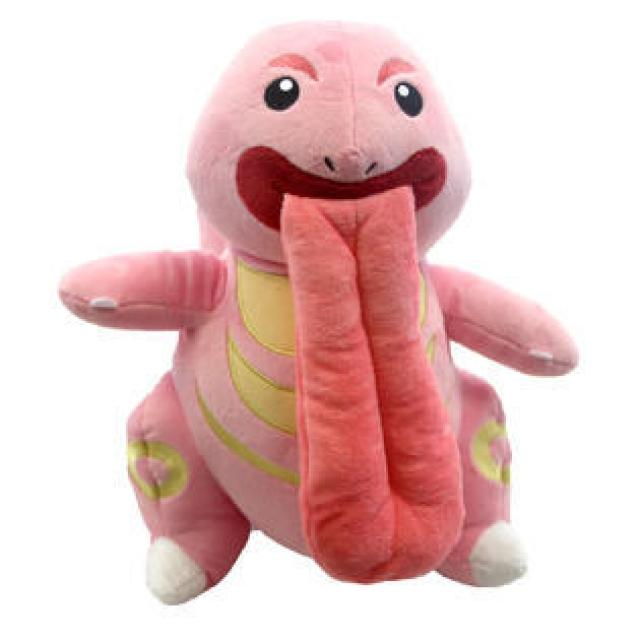Lickitung: (119, 26, 532, 599)
